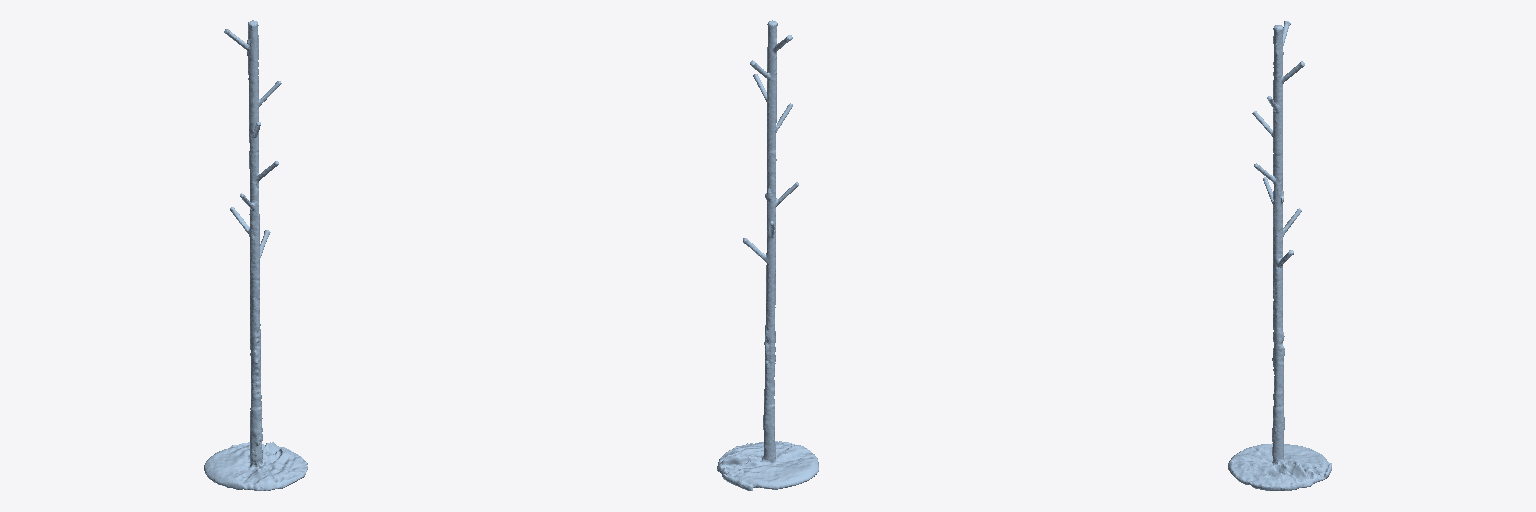
URDF robot description (clothesstand.urdf):
<?xml version="1.0" ?>
<robot name="clothesstand.urdf">
  <dynamics damping="0.5" friction="0.9"/>
  <link name="baseLink">
    <contact>
      <lateral_friction value="0.9"/>
      <rolling_friction value="0.5"/>
      <stiffness value="30000"/>
      <damping value="1000"/>
    </contact>
    <visual>
      <origin rpy="0 0 0" xyz="0 0 0"/>
      <geometry>
        <mesh filename="meshes/clothesstand/clothesstand.stl" scale="1.0 1.0 1.0"/>
      </geometry>
       <material name="mat">
        <color rgba="0.7 0.8 0.9 1"/>
      </material>
    </visual>
    <collision>
      <origin rpy="0 0 0" xyz="0 0 0"/>
      <geometry>
	 	<mesh filename="meshes/clothesstand/clothesstand.stl" scale="1.0 1.0 1.0"/>
      </geometry>
    </collision>
  </link>
</robot>

--- Facts derived from the render (not from the file) ---
3 views of the same robot in one strip: view 1: azimuth 30°, elevation 25°; view 2: azimuth 150°, elevation 25°; view 3: azimuth 270°, elevation 25° (orthographic).
Model clothesstand.urdf with 1 links and 0 joints (none), rooted at baseLink, posed all joints at 0.
Links seen in each view (by area): view 1: baseLink; view 2: baseLink; view 3: baseLink.
Boxes of the visible links, box(x1,y1,x2,y2) form: baseLink: box(204, 20, 307, 490); baseLink: box(717, 20, 818, 490); baseLink: box(1228, 21, 1331, 490).
Size in the robot's own frame: 0.3668 by 0.3768 by 1.77 metres.
1 mesh visuals loaded from 1 distinct referenced files (1 binary STL).
